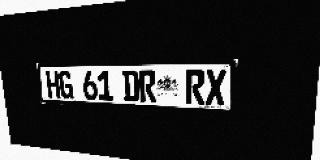1: (96, 70, 113, 101)
6: (82, 71, 98, 100)
D: (122, 70, 140, 102)
G: (58, 71, 74, 99)
H: (46, 71, 61, 99)
R: (185, 70, 205, 105), (139, 70, 157, 103)
X: (205, 70, 226, 106)
